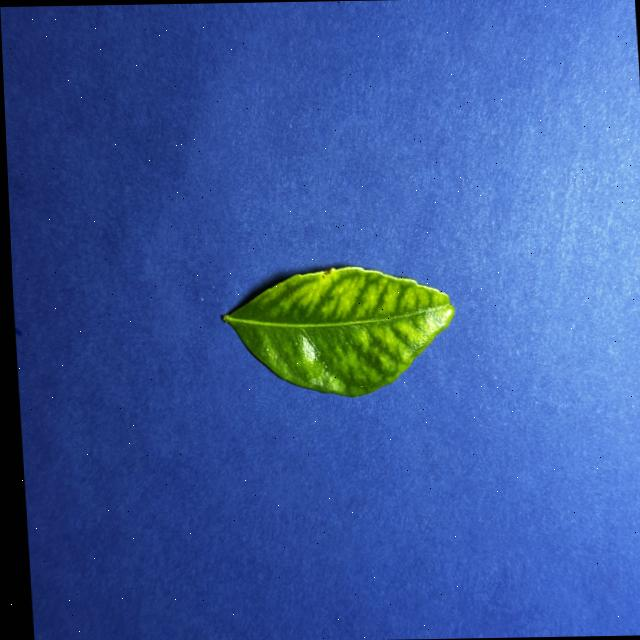greening: (222, 266, 454, 395)
